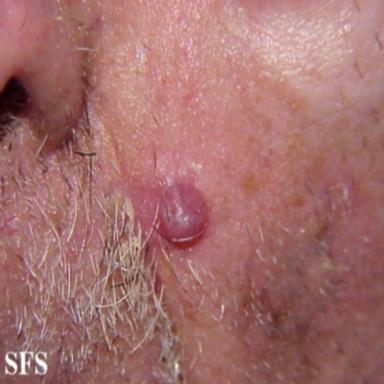basal-cell-carcinoma: (156, 180, 209, 247)
